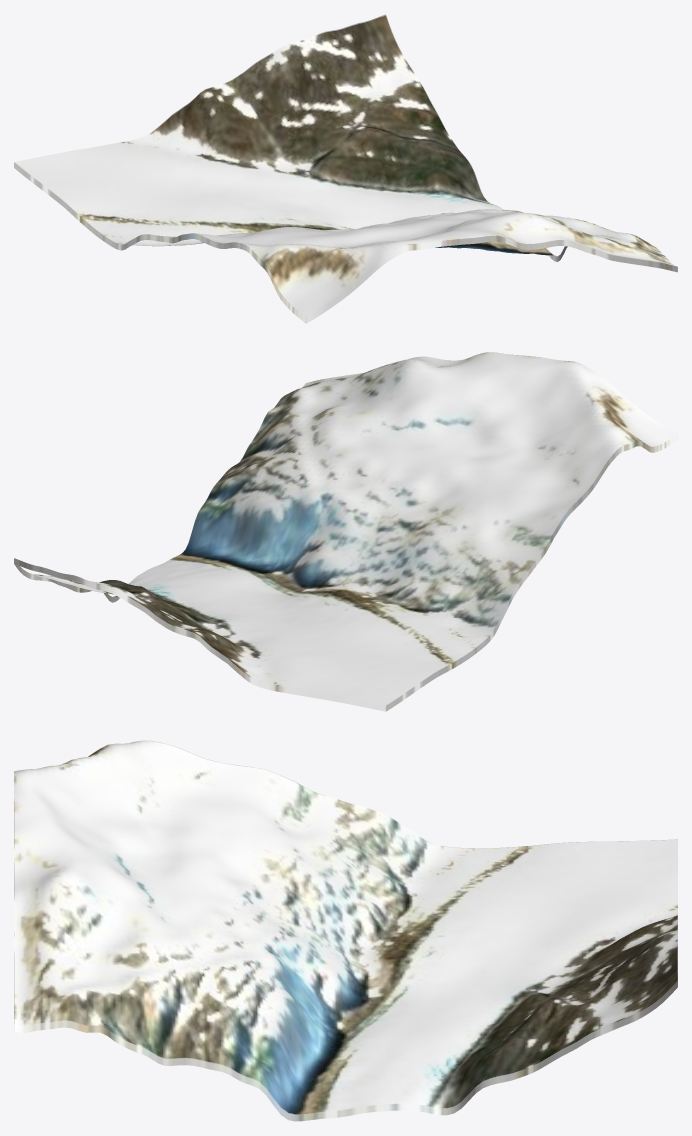
3 views of the same model, one above another, from view 1: azimuth 30°, elevation 25°; view 2: azimuth 150°, elevation 25°; view 3: azimuth 270°, elevation 25° (orthographic). The views are drawn at different scales.
Parts seen in each view (by area): view 1: tile; view 2: tile; view 3: tile.
Part boxes in pixels (x1,y1,x2,y2): tile: [14, 14, 677, 323]; tile: [14, 352, 677, 711]; tile: [14, 740, 677, 1121].
Size of the model in its own units: 2025 by 899 by 2752.
Materials: 1 (1 with a texture image).
